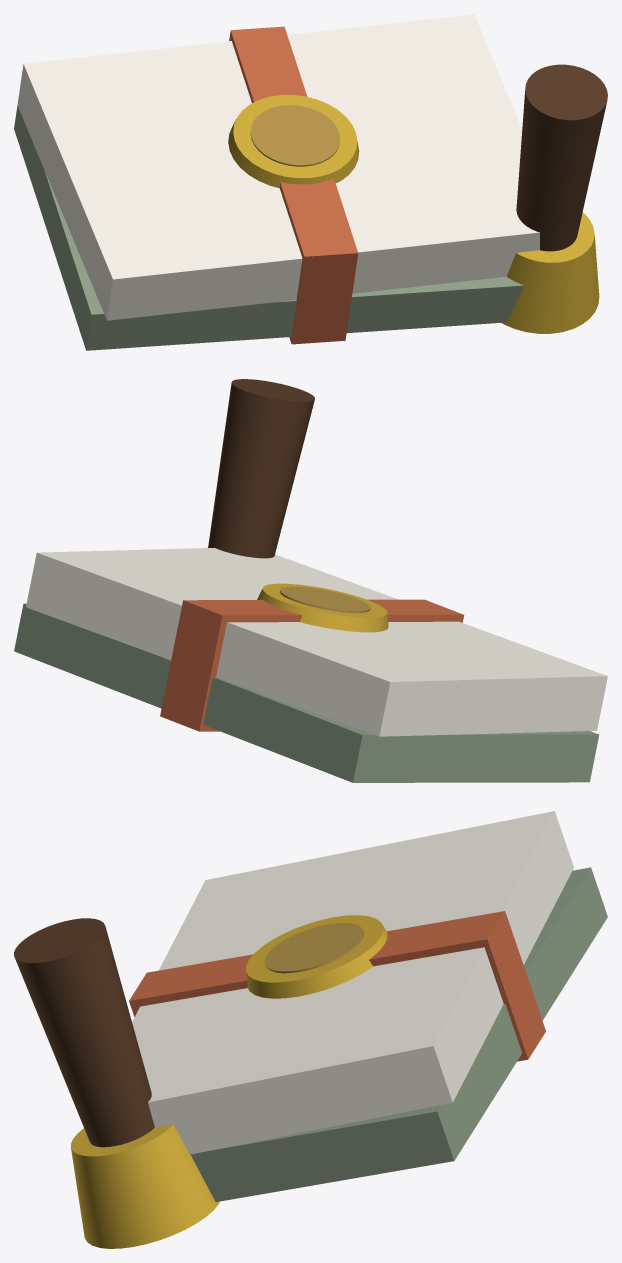
Rendered from handmade_stationery.glb.
3 renders of one model, top to bottom at view 1: azimuth 30°, elevation 25°; view 2: azimuth 150°, elevation 25°; view 3: azimuth 270°, elevation 25°, orthographic. The views are drawn at different scales.
Bounding box in the file's own units: 1.6 × 0.8294 × 1.48.
